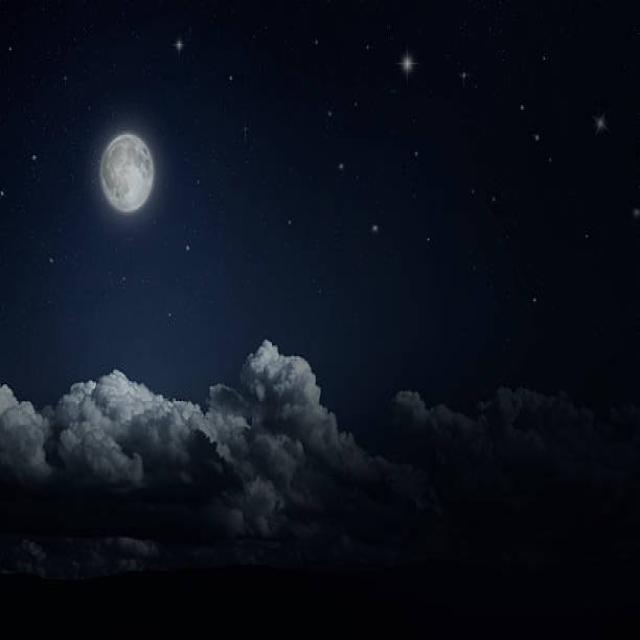moon: (95, 124, 157, 223)
